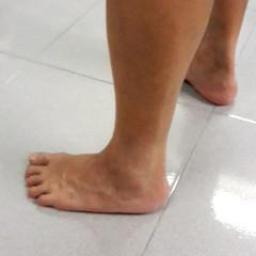Lateral View -Left Foot-: (13, 113, 191, 234)
